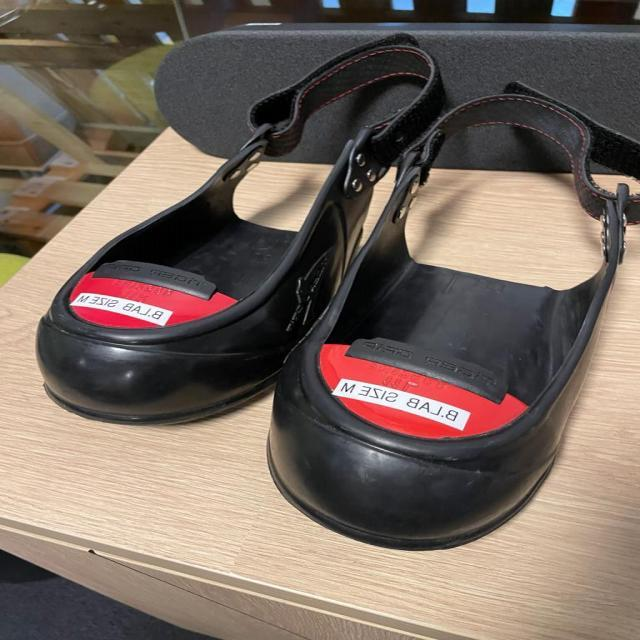shoes: (257, 85, 639, 557), (33, 33, 443, 434)
